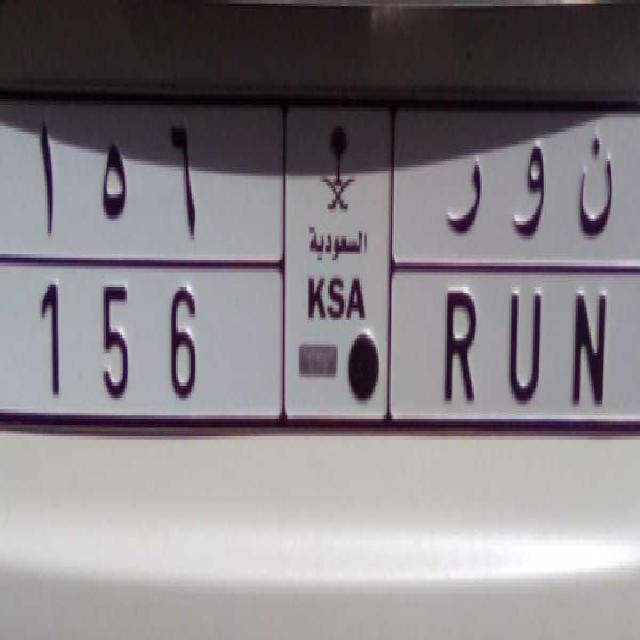license_plate: (13, 252, 640, 448)
